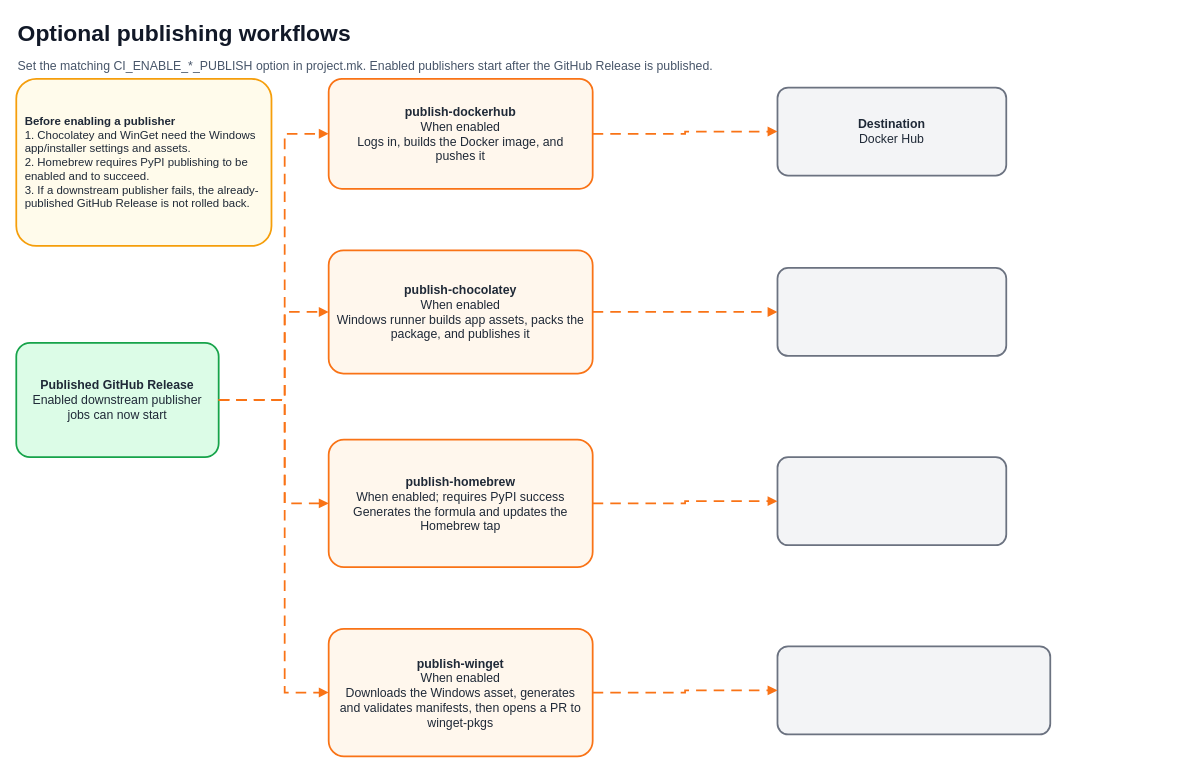
This 1192x772 diagram has some shape labels left out. Here are the shapes that lost their labels. From the top down, the centre of each, then its label:
At point 891,311: "Destination Chocolatey".
At point 891,501: "Destination Homebrew tap".
At point 913,690: "Destination Pull request to winget-pkgs".
